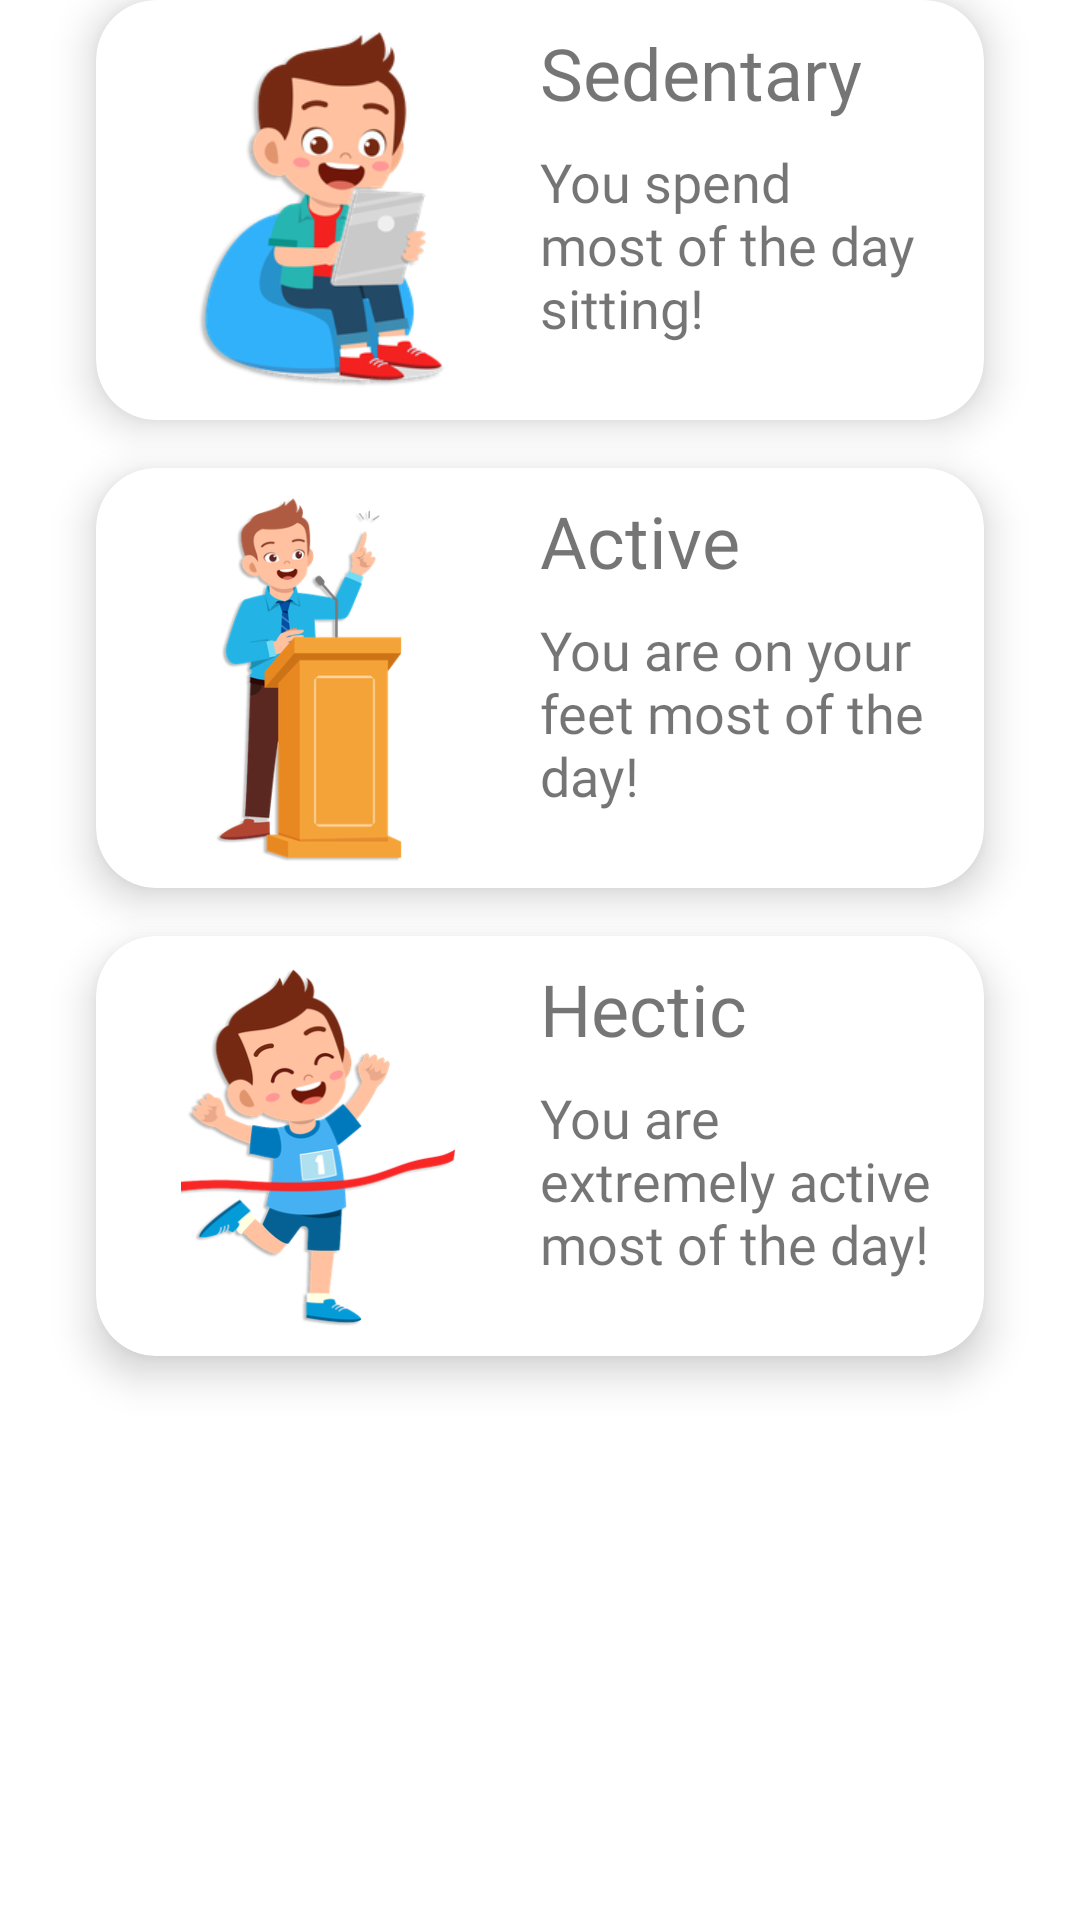

Named icons in this screenshot (1080*1920) and their centers, (x,y):
boy: (318,1147)
lazy boy: (321,208)
